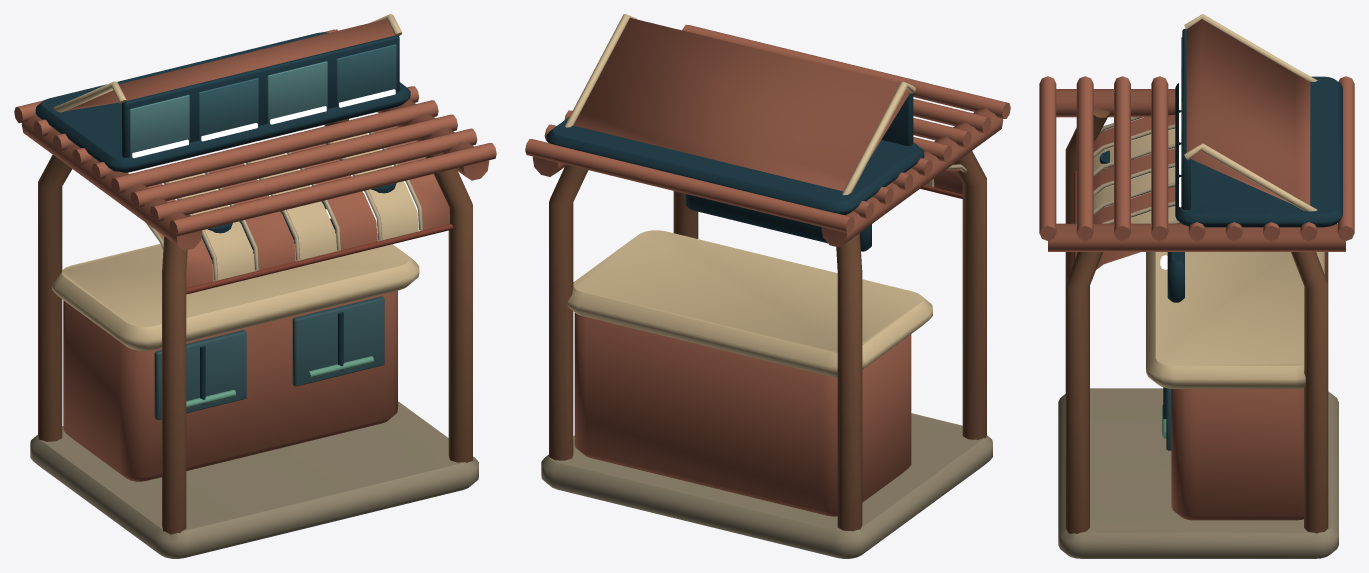
File: annex_restaurant_5.glb
3 views of the same model, side by side, from view 1: azimuth 30°, elevation 25°; view 2: azimuth 150°, elevation 25°; view 3: azimuth 270°, elevation 25° (orthographic). The views are drawn at different scales.
Visible parts, largest first — view 1: Annex_restaurant_5; view 2: Annex_restaurant_5; view 3: Annex_restaurant_5.
Boxes of the visible parts, x1,y1,x2,y2 form: Annex_restaurant_5: (14, 14, 496, 558); Annex_restaurant_5: (525, 14, 1010, 558); Annex_restaurant_5: (1039, 14, 1354, 558).
Bounding box in the file's own units: 2.24 × 2.82 × 1.98.
